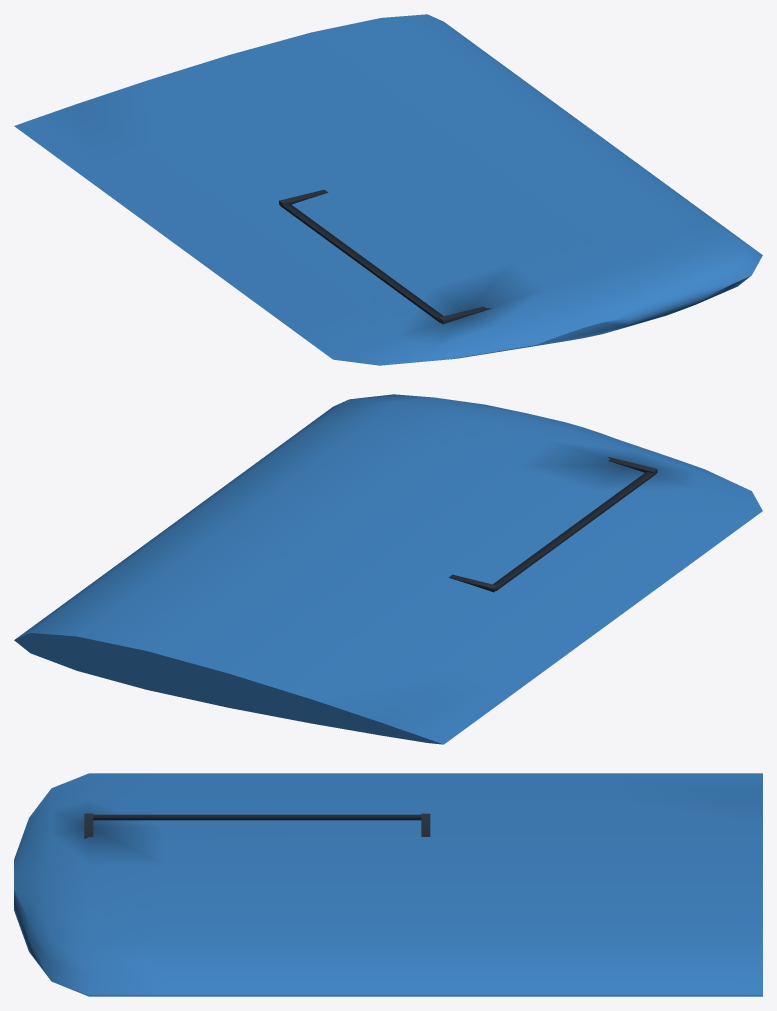
The model's file is wing-straight.glb.
3 renders of one model, top to bottom at view 1: azimuth 30°, elevation 25°; view 2: azimuth 150°, elevation 25°; view 3: azimuth 270°, elevation 25°, orthographic. The views are drawn at different scales.
Parts seen in each view (by area): view 1: body, dark; view 2: body, dark; view 3: body, dark.
Boxes of the visible parts, bbox=[...] form: body: bbox=[14, 14, 762, 365]; dark: bbox=[279, 189, 492, 324]; body: bbox=[14, 394, 762, 744]; dark: bbox=[448, 457, 657, 592]; body: bbox=[14, 773, 762, 996]; dark: bbox=[84, 813, 430, 838].
Size of the model in its own units: 0.7 by 0.0604 by 1.
